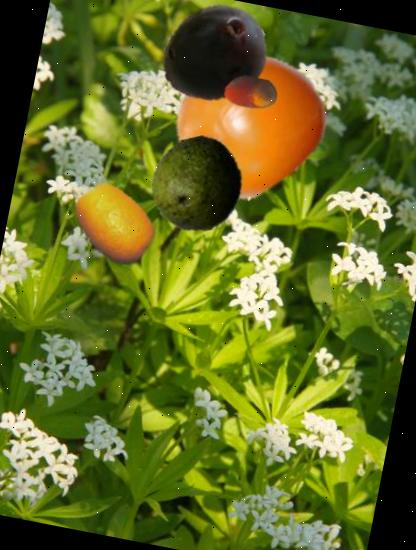Avocado: (142, 130, 253, 240)
Hazelnut: (219, 60, 283, 125)
Kumquats: (64, 172, 168, 276)
Plum: (149, 0, 278, 117)
Tomato: (163, 36, 338, 210)
